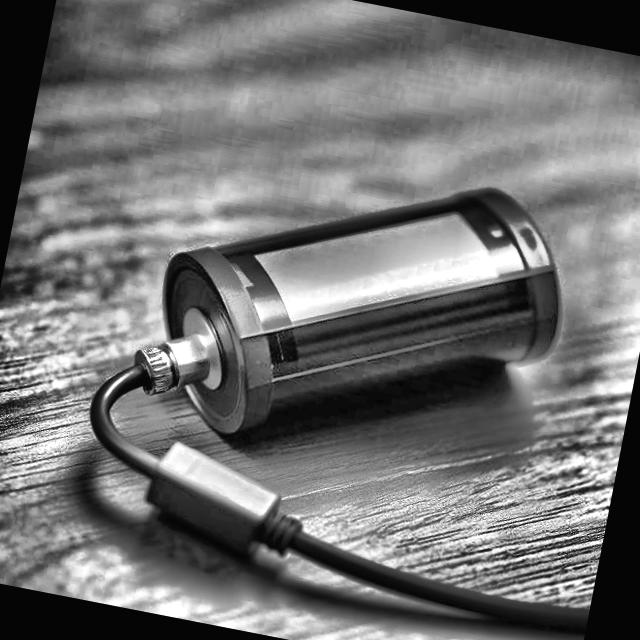Battery: (141, 117, 590, 505)
Cable: (63, 361, 618, 639)
